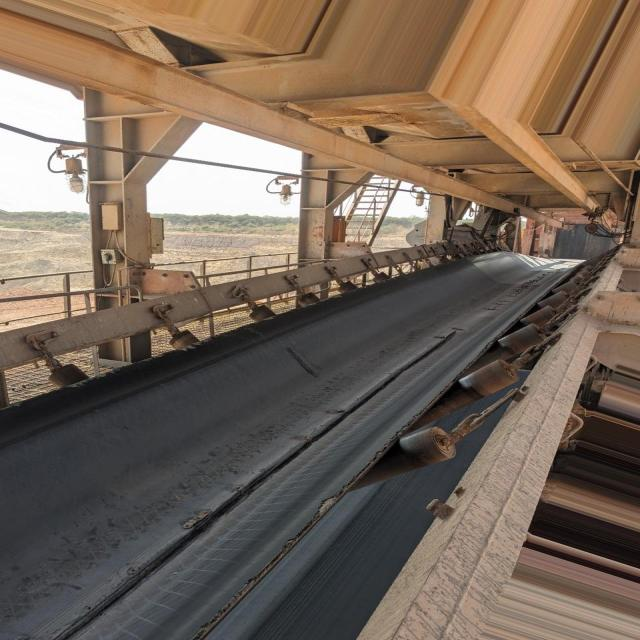Roller: (484, 270, 589, 360), (413, 360, 516, 420), (367, 425, 464, 488)
Tear: (53, 325, 473, 640)
